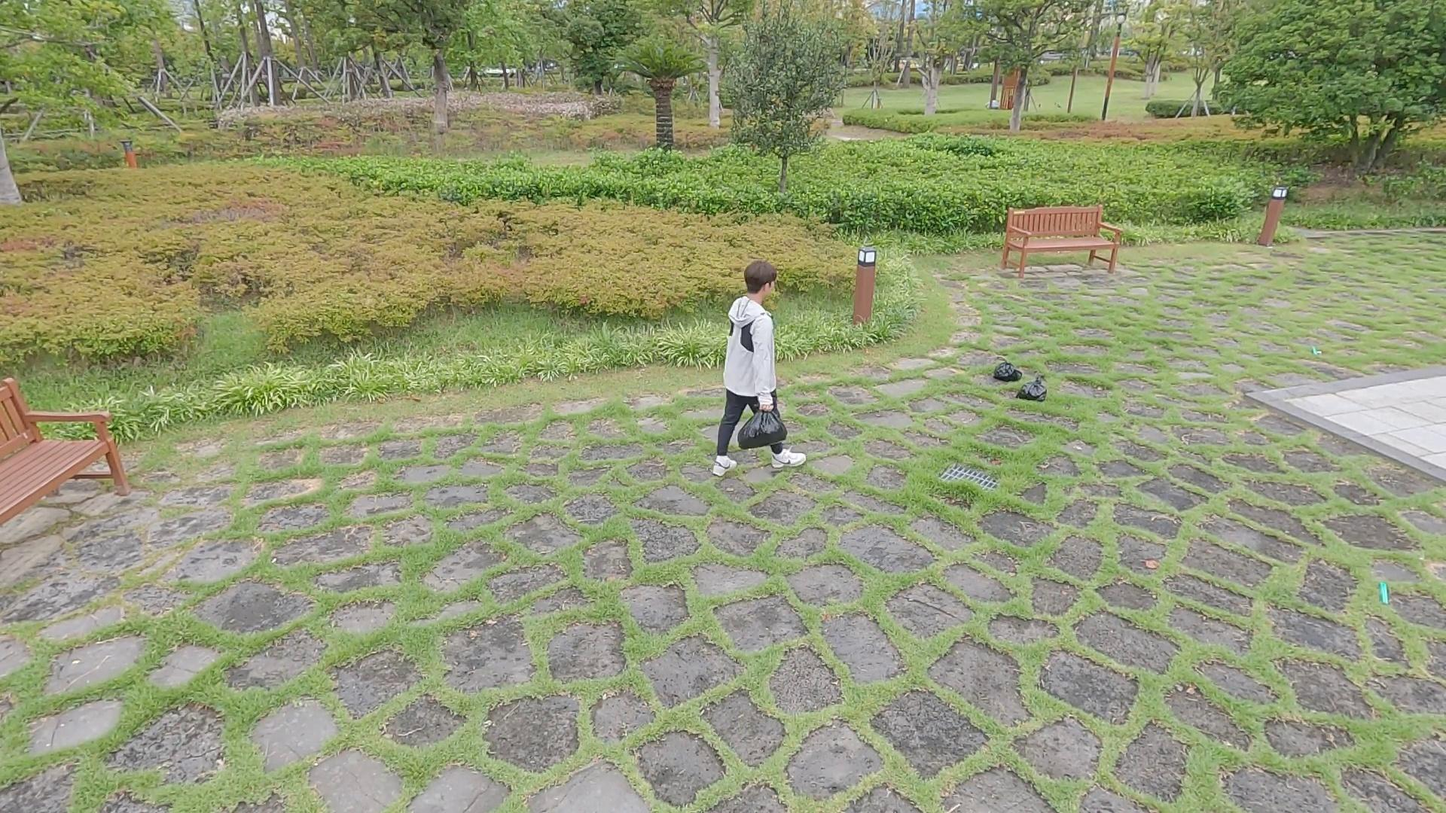person: (711, 255, 814, 481)
trash: (737, 408, 791, 450), (994, 356, 1025, 386), (1019, 375, 1044, 404)
